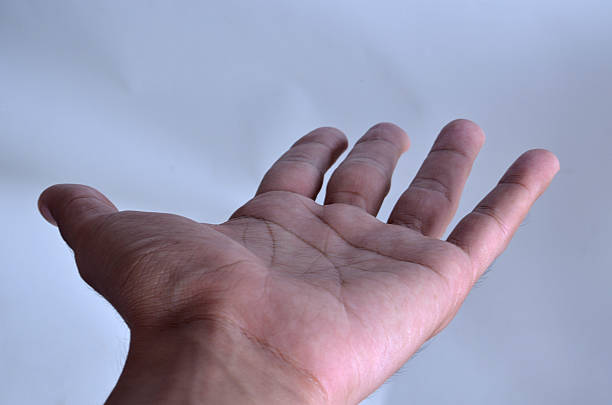non-diseased: (54, 91, 562, 339)
